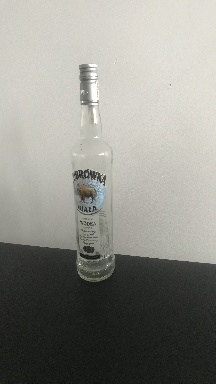butelka: (68, 60, 116, 285)
